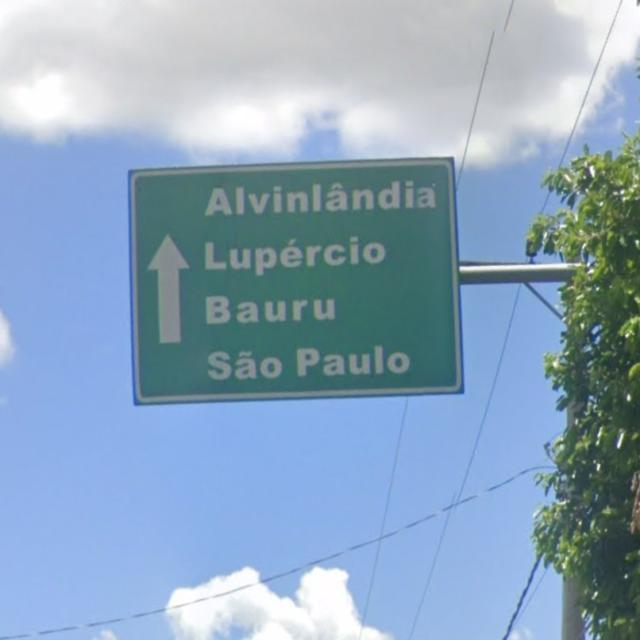indication: (99, 142, 488, 424)
